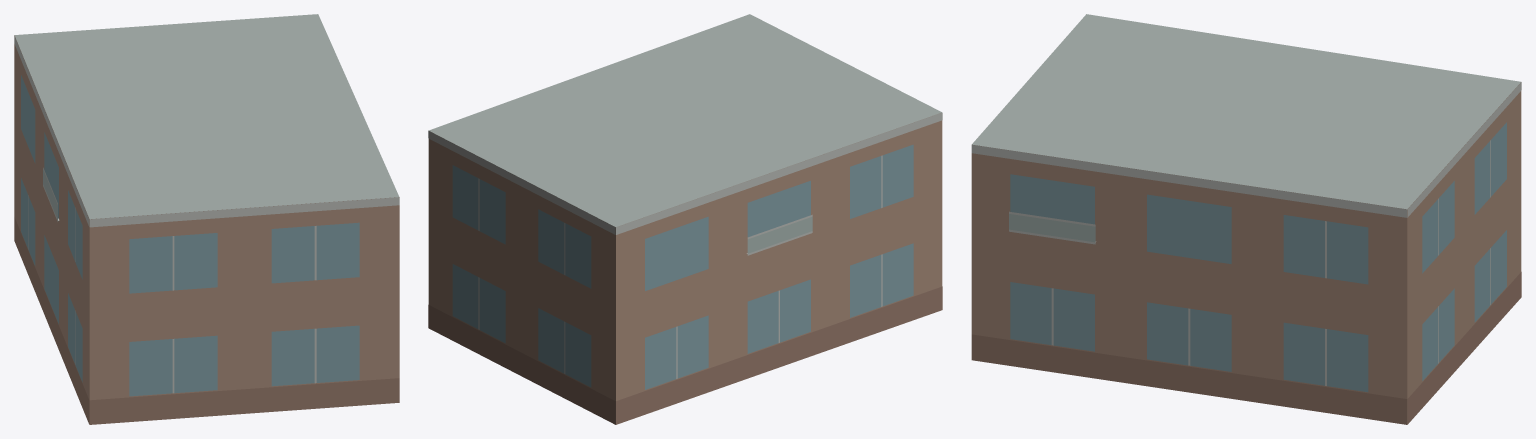
The model's file is survey-upis-32798773.glb.
The picture shows the model from 3 angles, left to right: view 1: azimuth 30°, elevation 25°; view 2: azimuth 150°, elevation 25°; view 3: azimuth 270°, elevation 25°; orthographic projection. The views are drawn at different scales.
Parts seen in each view (by area): view 1: survey-upis-32798773.tmp; view 2: survey-upis-32798773.tmp; view 3: survey-upis-32798773.tmp.
Part boxes in pixels (x1,y1,x2,y2): survey-upis-32798773.tmp: [14, 14, 399, 424]; survey-upis-32798773.tmp: [428, 14, 942, 424]; survey-upis-32798773.tmp: [971, 14, 1521, 424].
Bounding box in the file's own units: 11.86 × 6.1 × 14.11.
